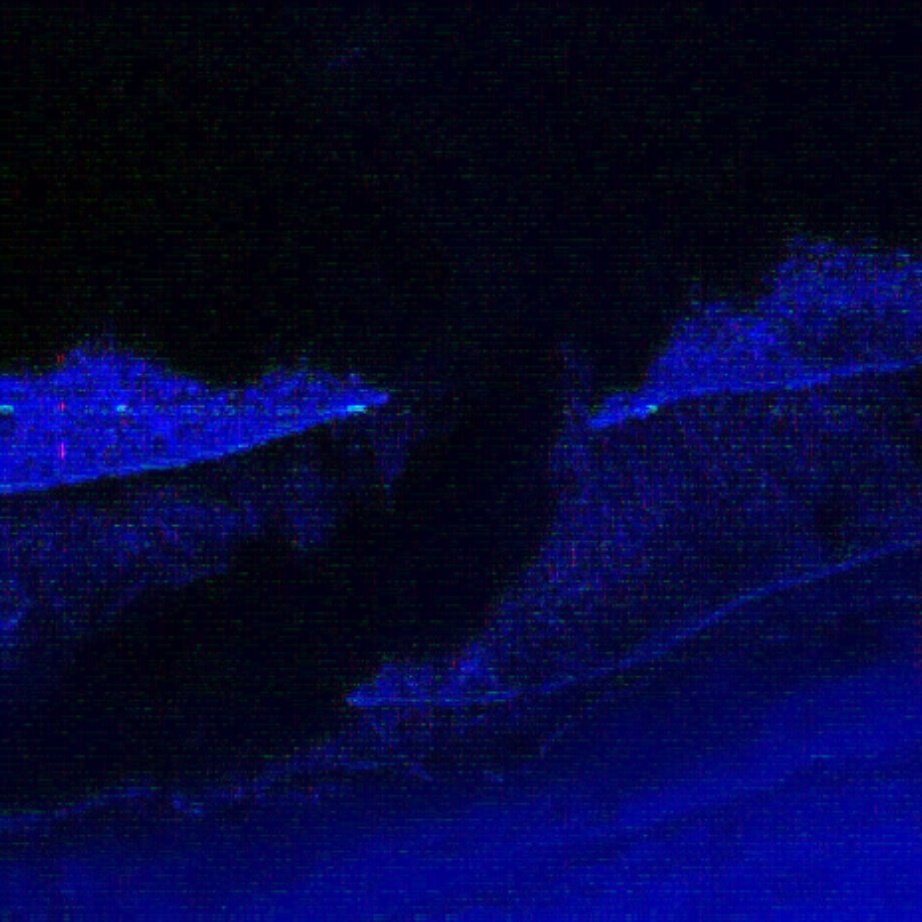rip_current: (147, 312, 641, 708)
